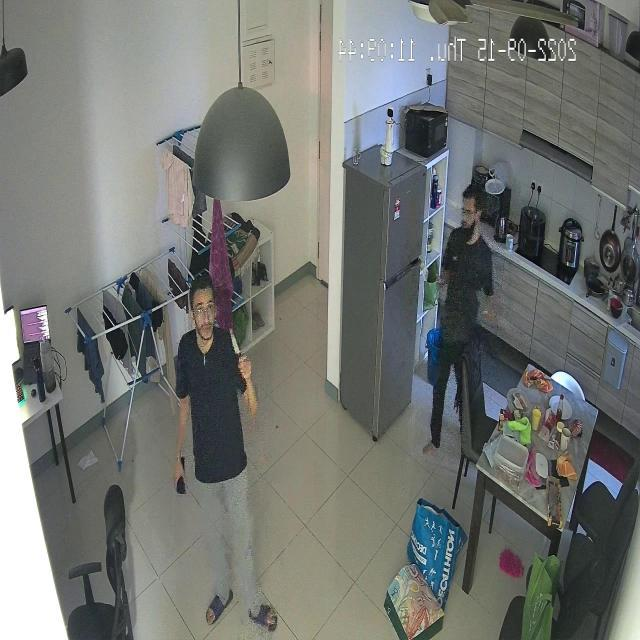Knife: (222, 322, 256, 373)
